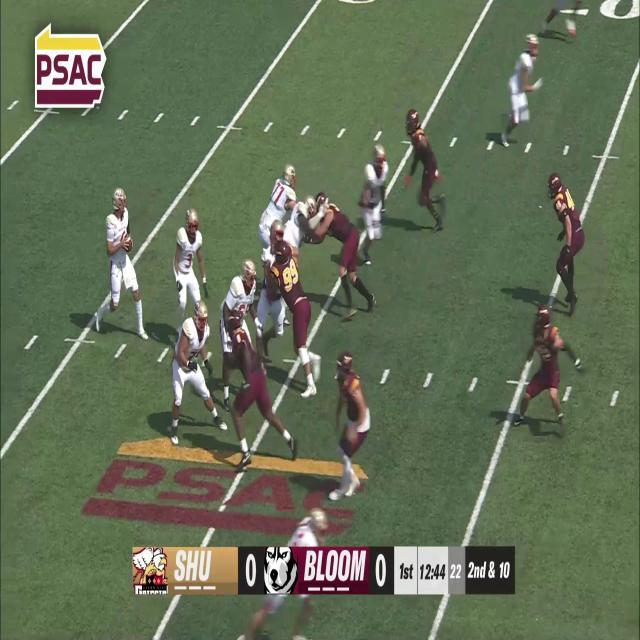football: (124, 233, 134, 254)
